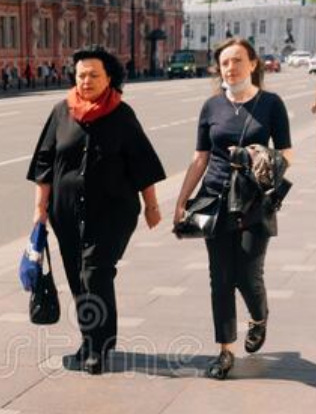Bad: (27, 39, 291, 379)
